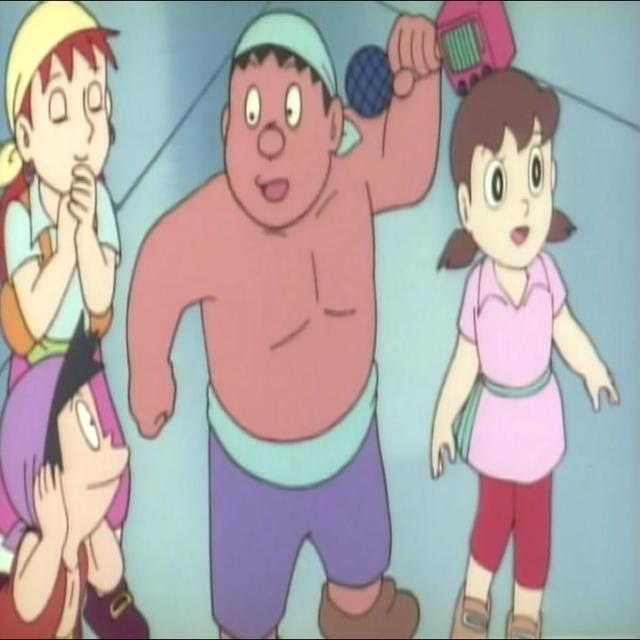jaian: (215, 20, 348, 228)
shizuka: (440, 63, 582, 287)
